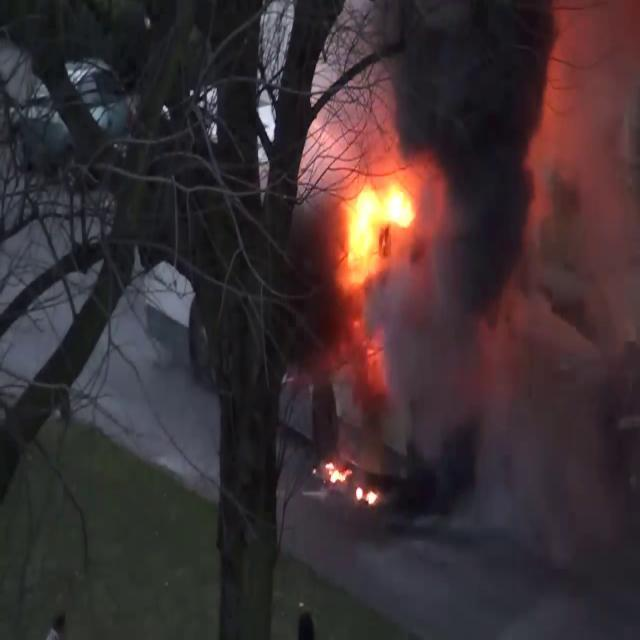Fire: (336, 164, 425, 284)
Smoke: (345, 0, 640, 625)
